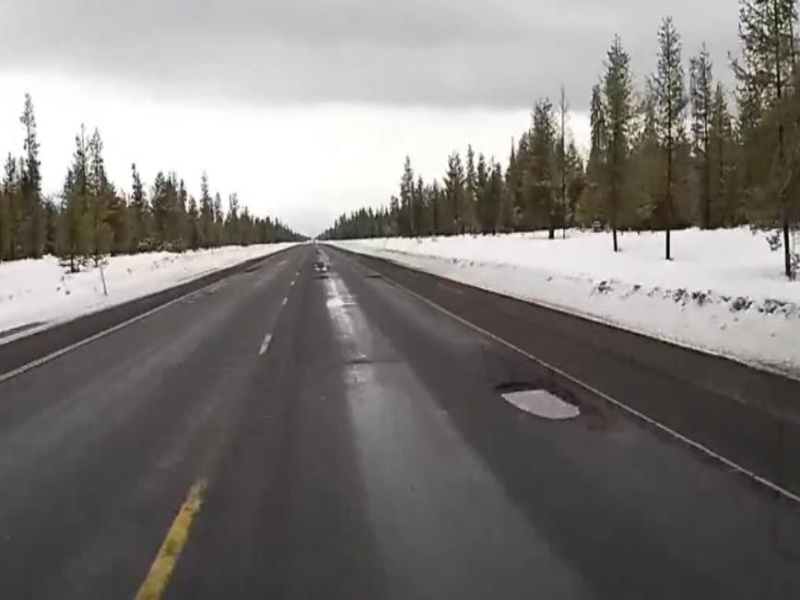pothole: (492, 380, 586, 427)
